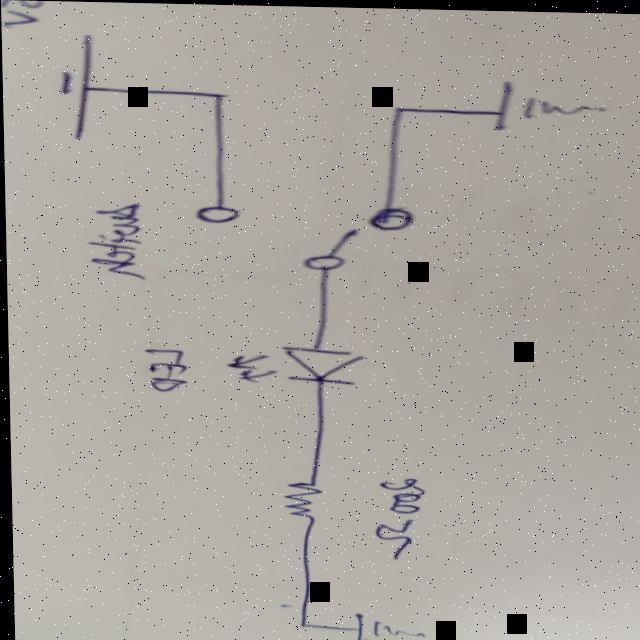diode: (223, 343, 364, 383)
ground: (490, 77, 603, 130), (348, 611, 421, 640)
junction: (384, 100, 418, 116), (199, 88, 235, 103), (285, 618, 312, 628)
resistor: (277, 479, 319, 519)
source: (52, 33, 95, 139)
switch: (190, 201, 412, 272)
text: (368, 476, 422, 559), (83, 205, 140, 274), (135, 347, 183, 391), (0, 0, 46, 30)
